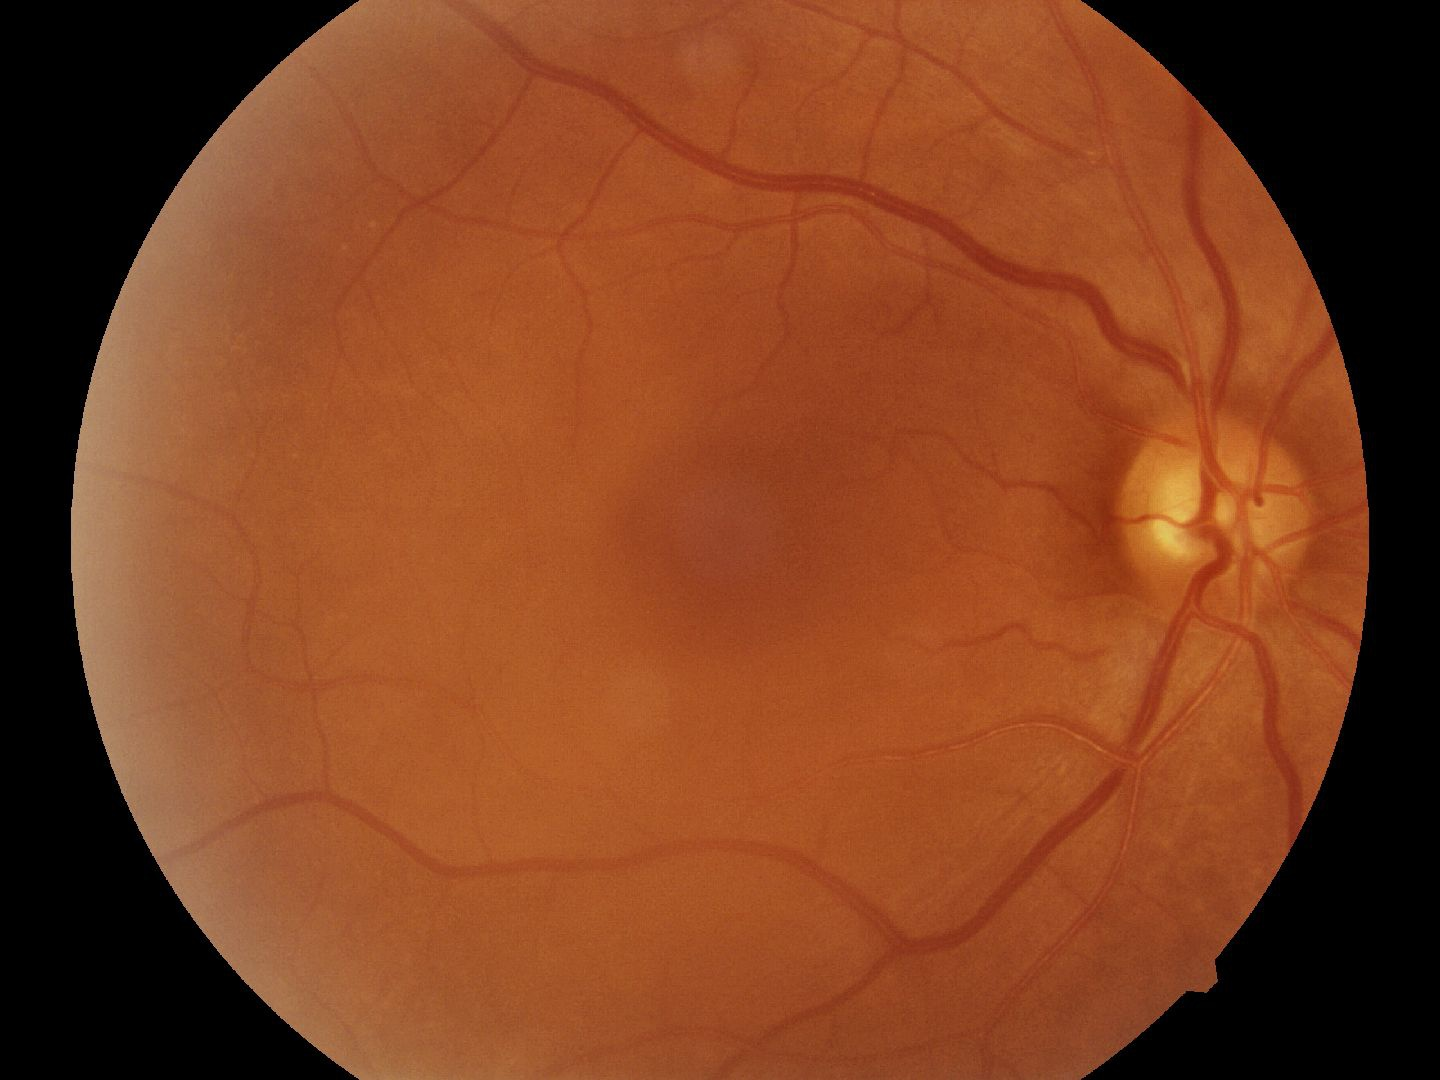Hemorrhages: (637, 421, 818, 647)
Optic-Disc: (1128, 393, 1318, 611)
Venules: (622, 70, 1147, 347), (890, 657, 1147, 981)
